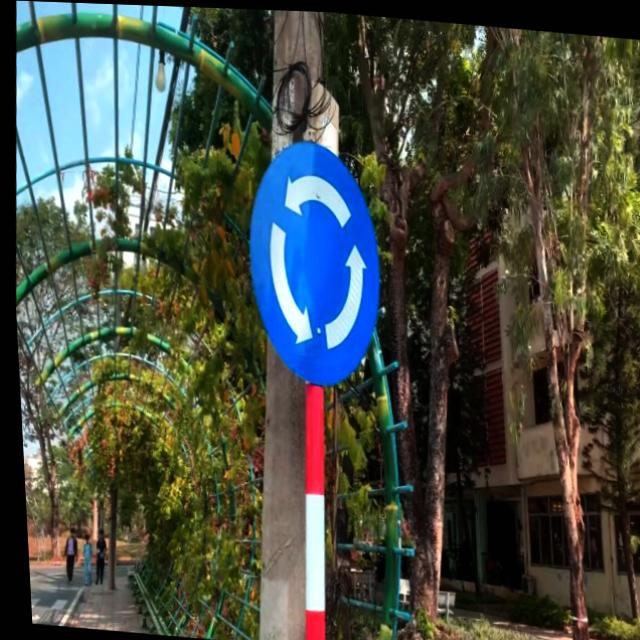Noi giao nhau chay theo vong xuyen: (235, 133, 391, 391)
